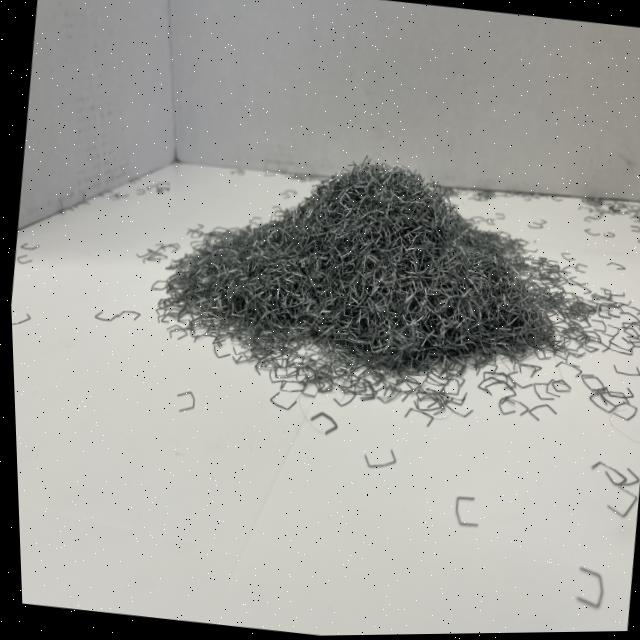staples: (140, 127, 582, 402)
